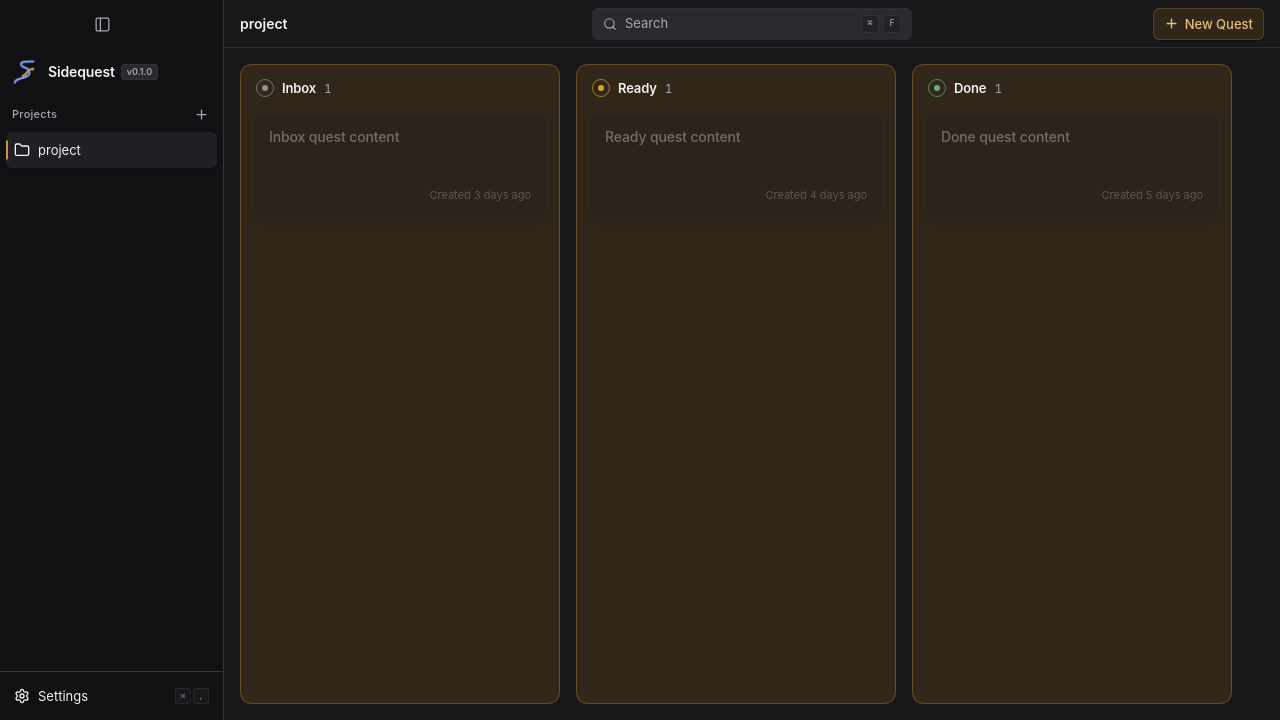
App › blocks_drawer_close_after_a_save_error_until_the_draft_is_discarded
Click the button "Inbox quest content": (334, 136) [252,112,548,220]
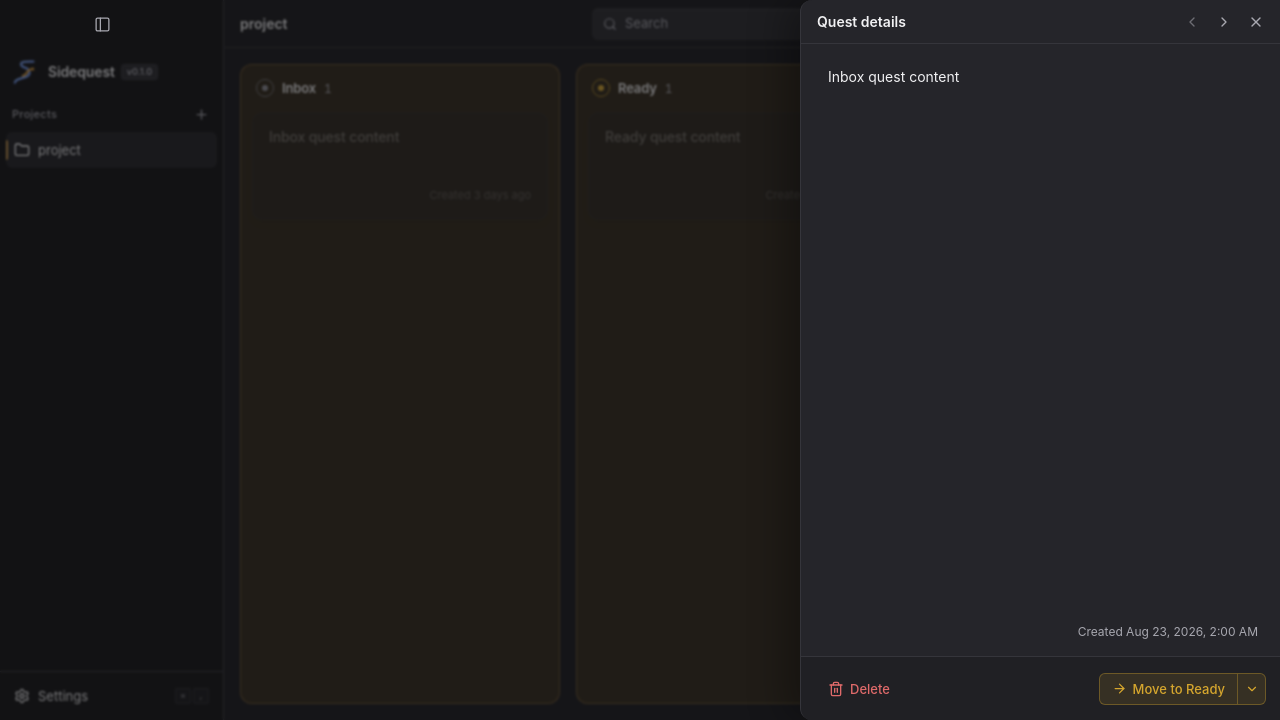
Click the button "Inbox quest content": (894, 76) [828,68,959,85]
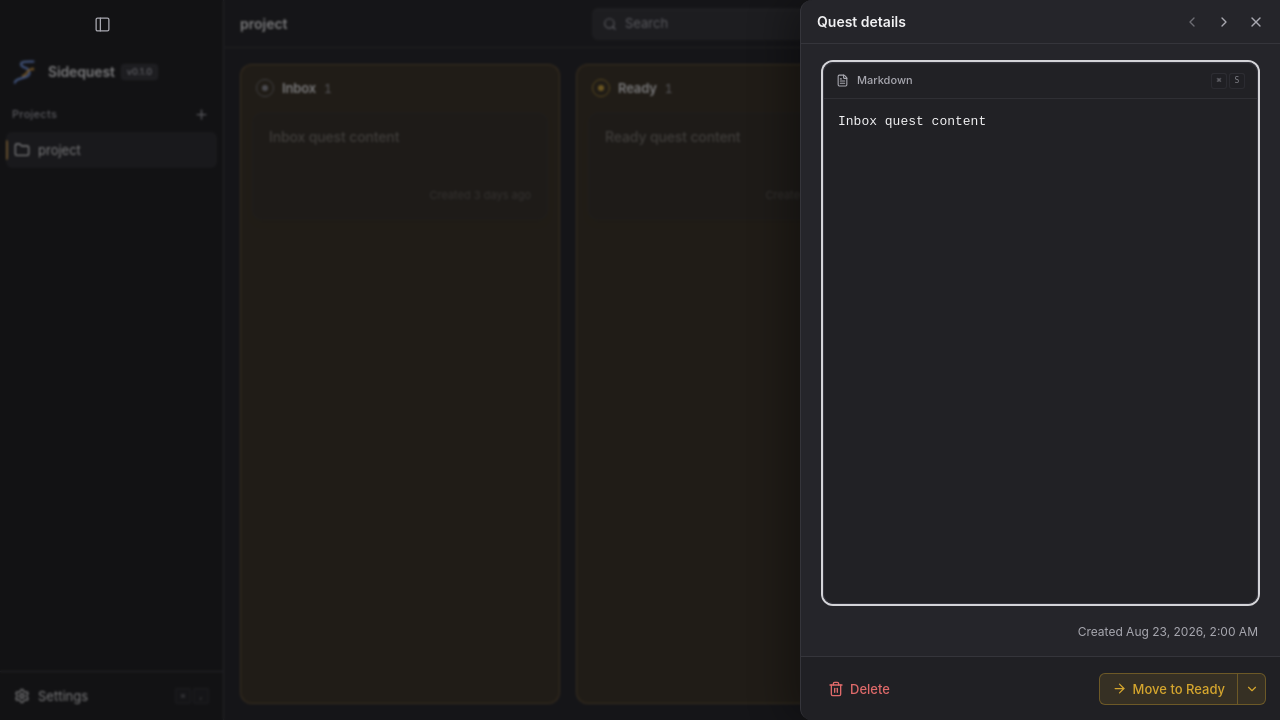
Replace the text in the text box with "Unsaved local draft": (1040, 351) [824,99,1257,603]
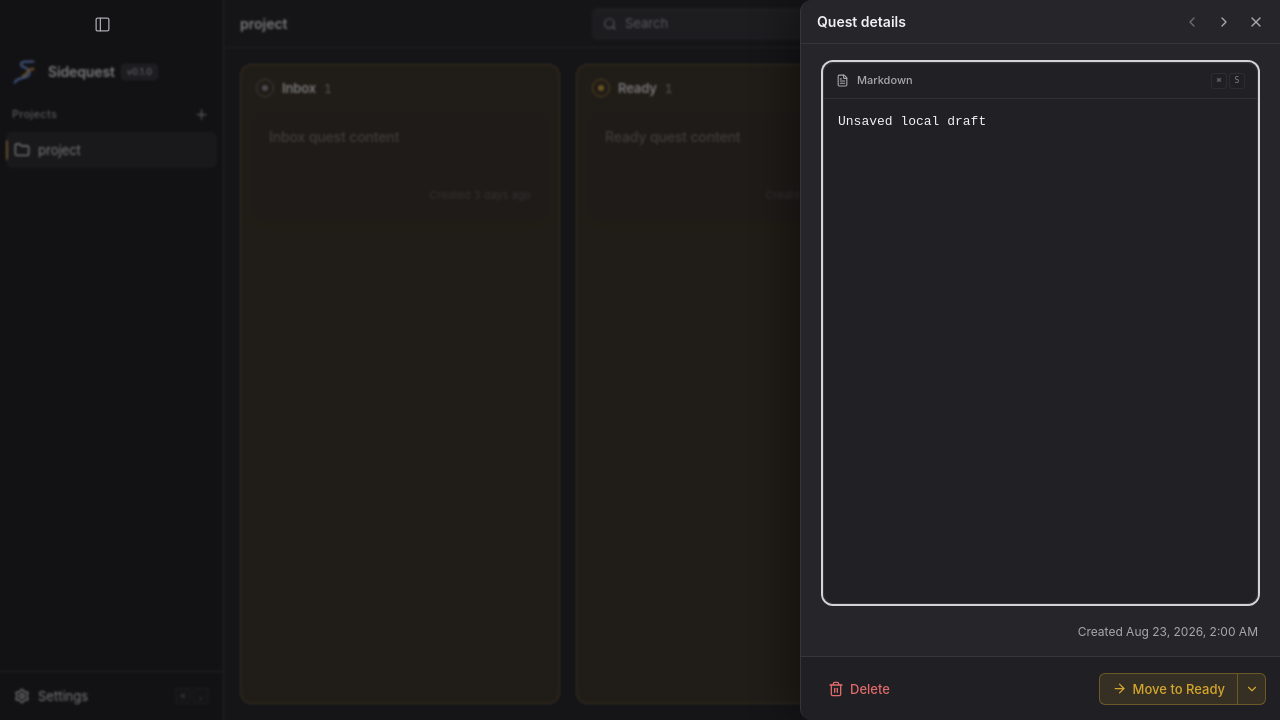
Click the button named "Close Quest details": (1256, 22) [1242,8,1270,36]
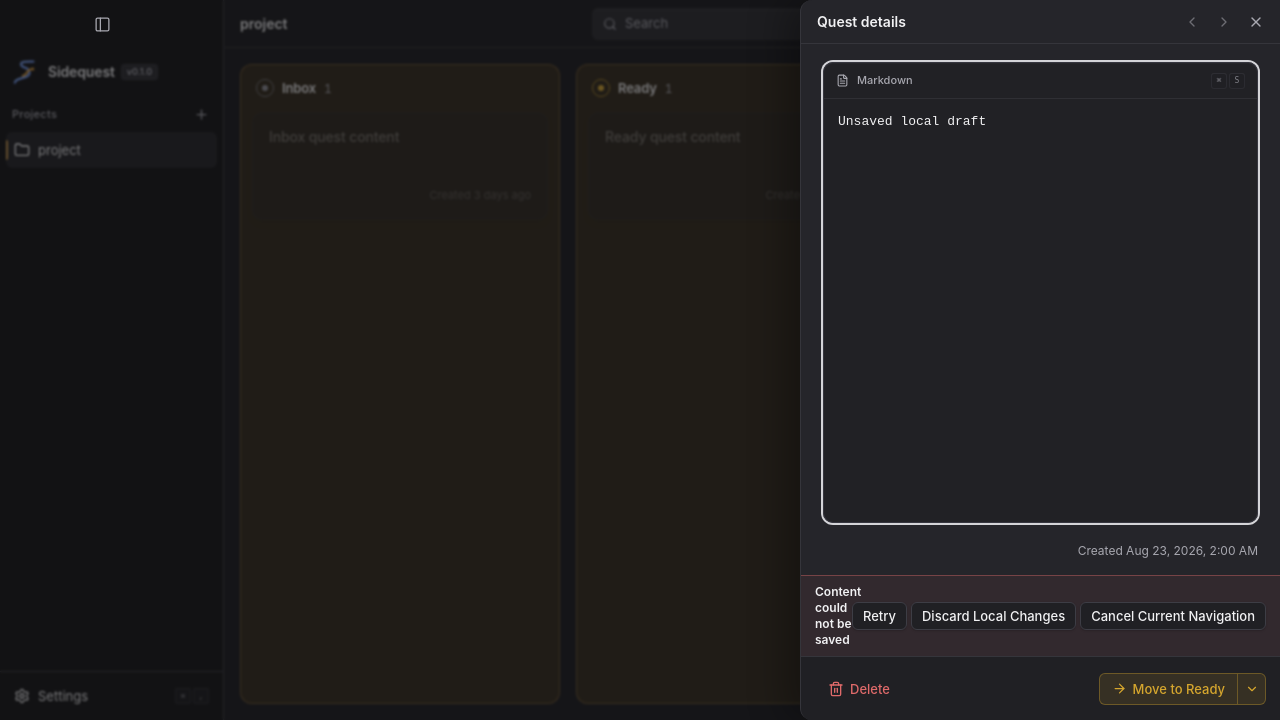
Check: the heading "Quest details" is shown, box [817,12,906,32]
Check: the text "Content could not be saved" is shown, box [815,584,861,648]
Click the button "Discard Local Changes": (994, 616) [911,602,1076,630]
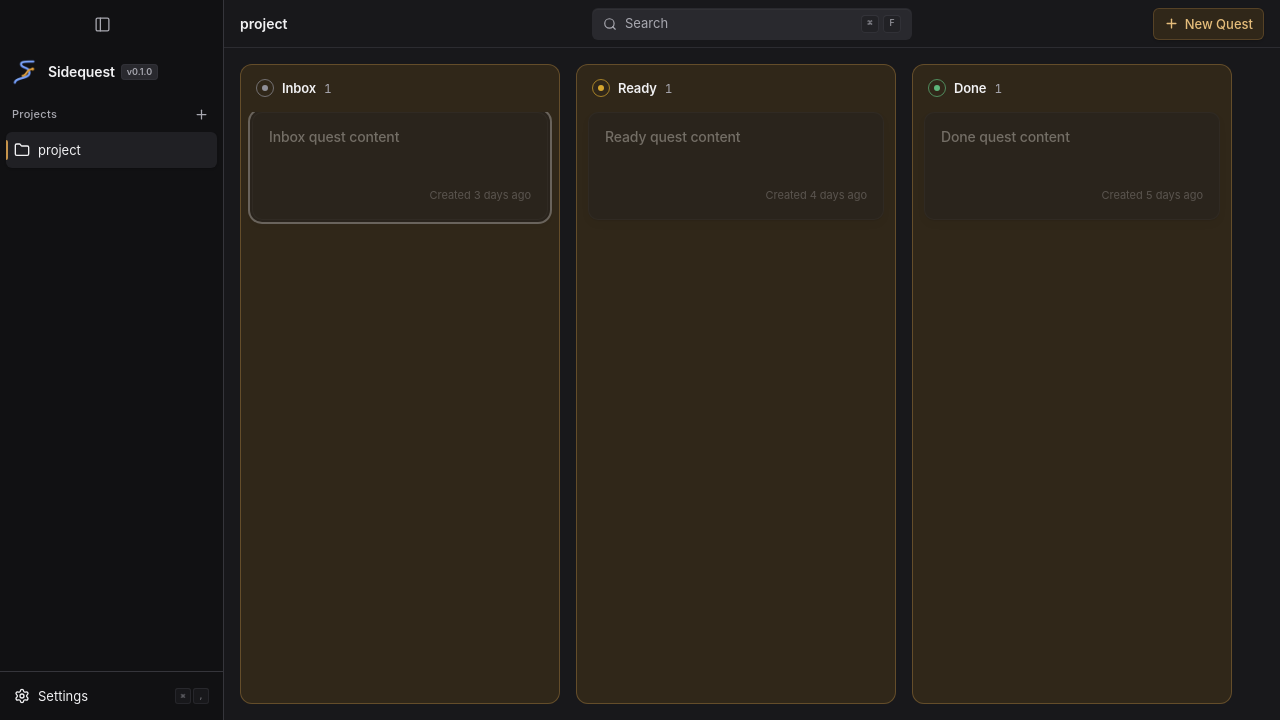
Check: the heading "Quest details" is gone
